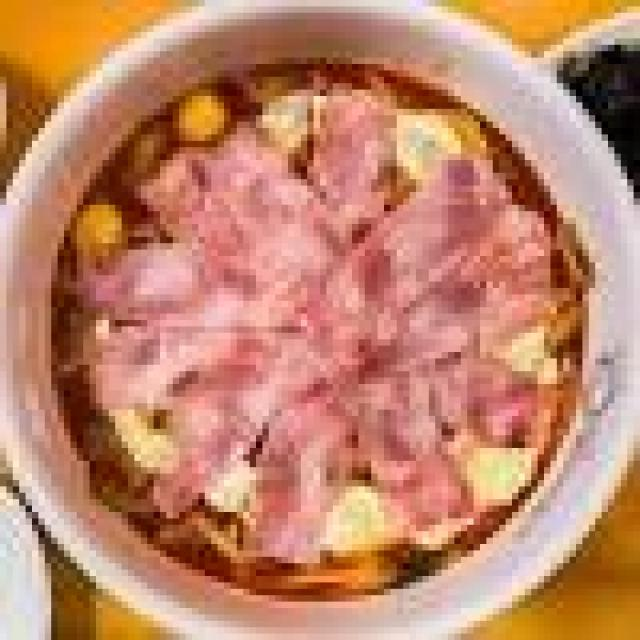bacon: (142, 183, 529, 480)
